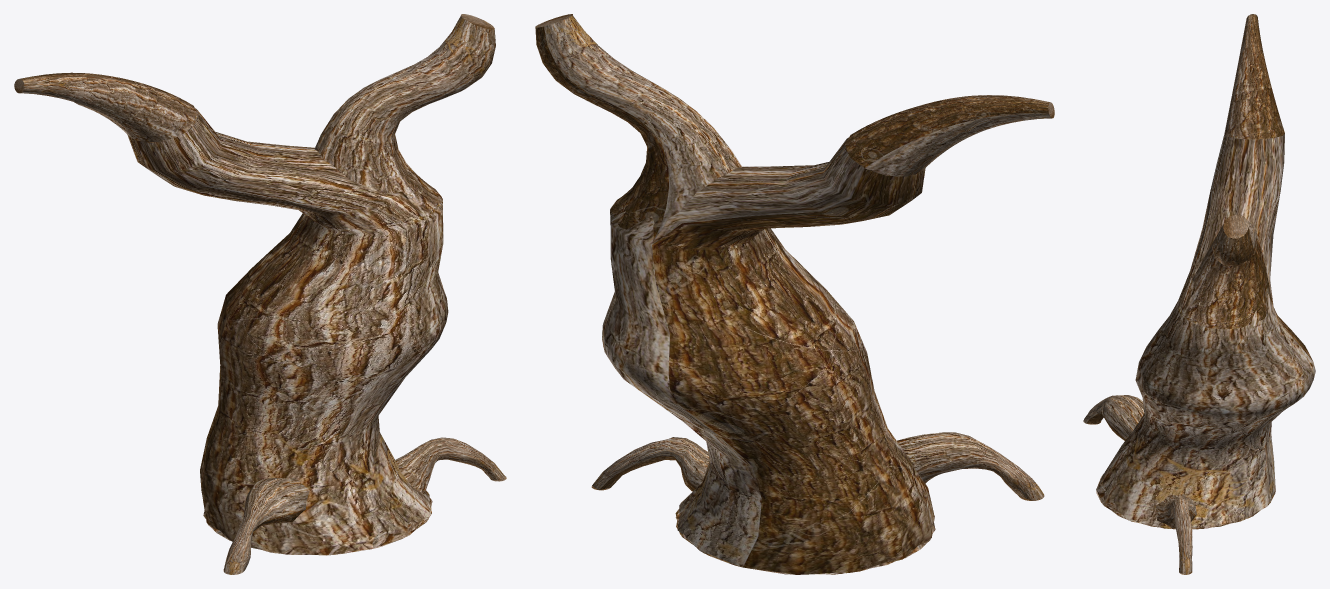
File: tree_full02.obj
3 views of the same model, side by side, from view 1: azimuth 30°, elevation 25°; view 2: azimuth 150°, elevation 25°; view 3: azimuth 270°, elevation 25° (orthographic). The views are drawn at different scales.
Parts seen in each view (by area): view 1: nurbsToPoly11; view 2: nurbsToPoly11; view 3: nurbsToPoly11.
Part boxes in pixels (<box>): nurbsToPoly11: <box>14,14,506,574</box>; nurbsToPoly11: <box>535,14,1054,574</box>; nurbsToPoly11: <box>1083,14,1315,574</box>.
Size of the model in its own units: 6.04 by 5.9 by 3.23.
1 material, 1 textured.
